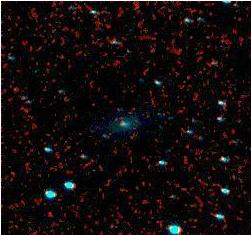star: (0, 74, 28, 104)
